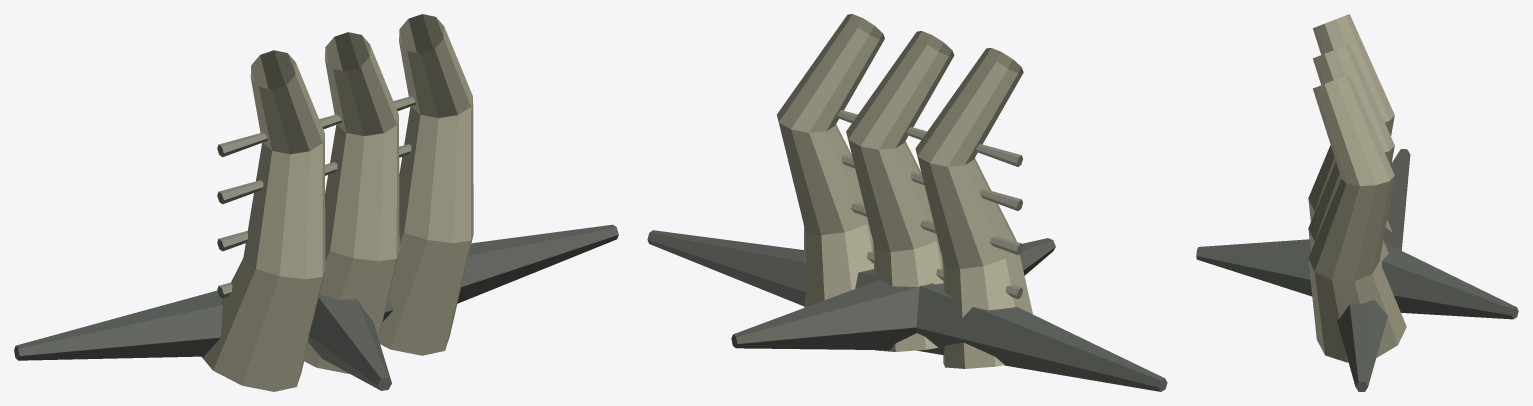
File: strange_stormglass.glb
3 views of the same model, side by side, from view 1: azimuth 30°, elevation 25°; view 2: azimuth 150°, elevation 25°; view 3: azimuth 270°, elevation 25° (orthographic). The views are drawn at different scales.
Visible parts, largest first — view 1: strange_stormglass; view 2: strange_stormglass; view 3: strange_stormglass.
Part boxes in pixels (box(x1,y1,x2,y2)): strange_stormglass: box(14, 14, 618, 391); strange_stormglass: box(647, 14, 1167, 391); strange_stormglass: box(1196, 14, 1518, 391).
Bounding box in the file's own units: 2.17 × 1.19 × 1.27.
